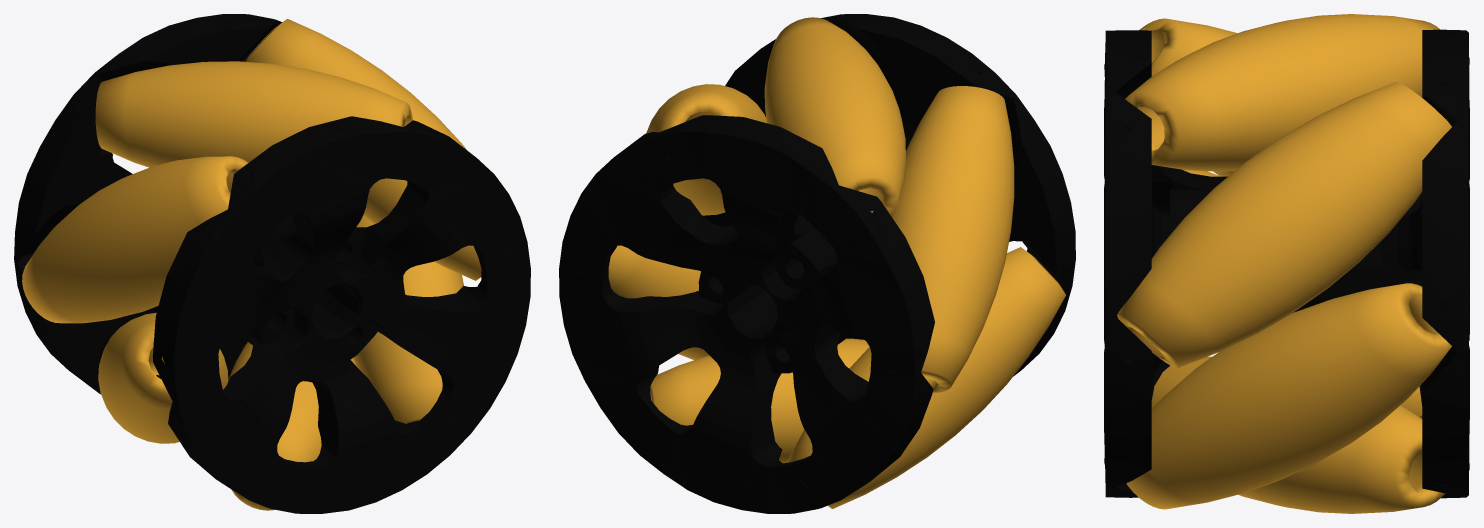
Rendered from front-right_wheel.dae.
3 renders of one model, left to right at view 1: azimuth 30°, elevation 25°; view 2: azimuth 150°, elevation 25°; view 3: azimuth 270°, elevation 25°, orthographic. The views are drawn at different scales.
Visible parts, largest first — view 1: front-right_wheel; view 2: front-right_wheel; view 3: front-right_wheel.
Part boxes in pixels (x1,y1,x2,y2): front-right_wheel: (14, 14, 530, 513); front-right_wheel: (559, 14, 1075, 513); front-right_wheel: (1104, 14, 1469, 513).
Size of the model in its own units: 0.0999 by 0.0731 by 0.0997.
